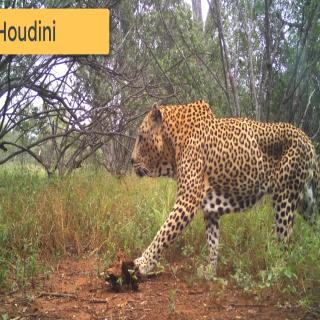Leopard: (107, 59, 320, 320)
